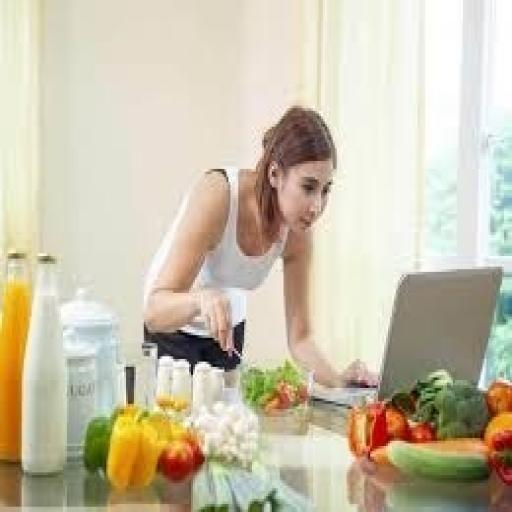eating: (140, 100, 380, 391)
